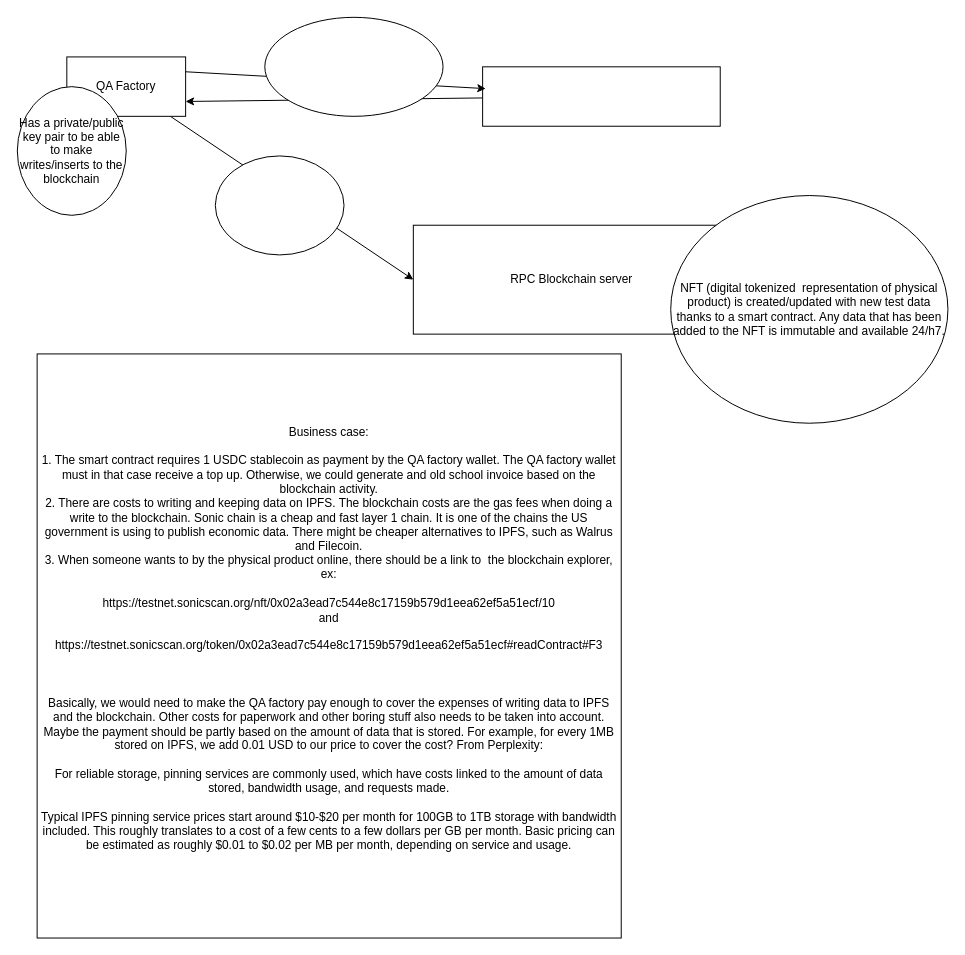
This 965x955 diagram has some shape labels left out. Here are the shapes that lost their labels. From the top down, the centre of each, then its label:
At pixel 353 66: "QA Factory sends raw test output. IPFS returns CID".
At pixel 601 96: "Interplanetary Filesystem".
At pixel 279 205: "Stores a summary of the tests with CID reference on IPFS".
